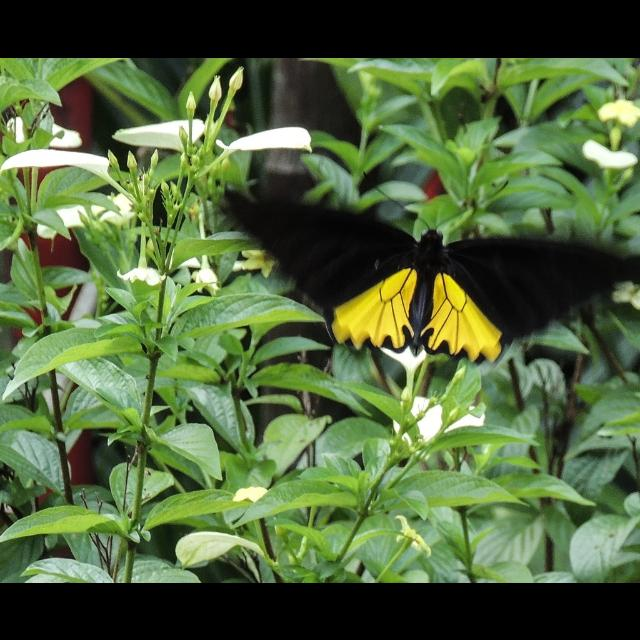Flower: (0, 117, 312, 183), (374, 344, 490, 456), (580, 98, 640, 172), (36, 192, 140, 234), (114, 236, 168, 286), (392, 511, 433, 565), (194, 250, 220, 298)
